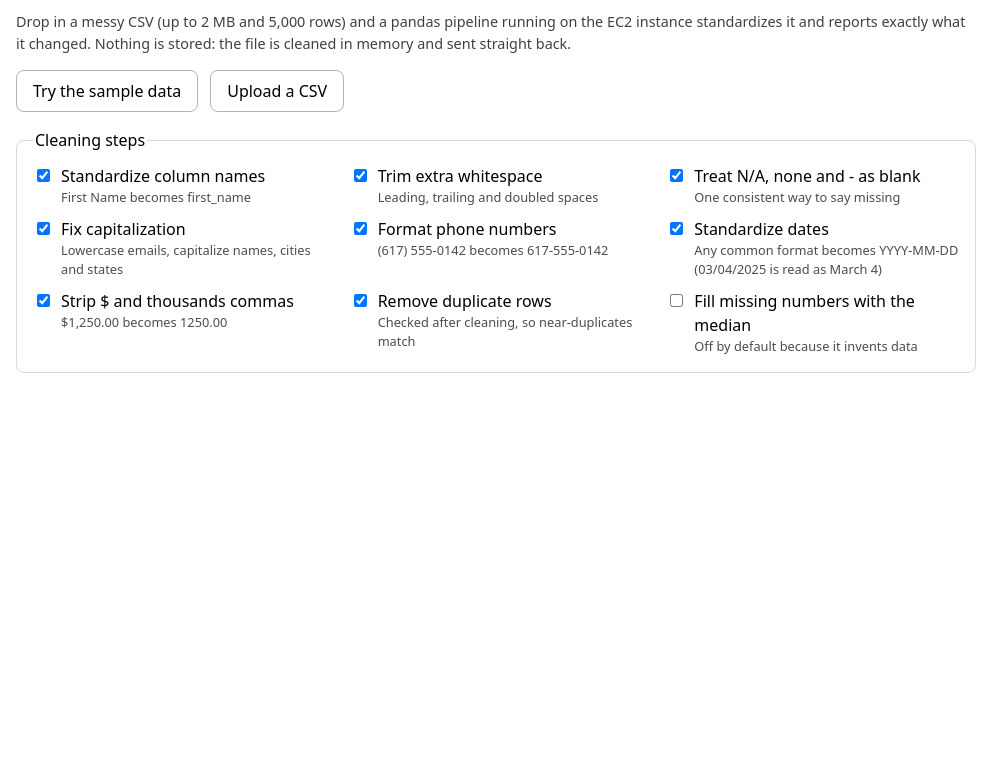
Scenario: DataCleaner › cleans the sample data and reports what changed
The image size is (993, 757).
Click the button "Try the sample data".
click(107, 91)  # box [16, 70, 198, 112]
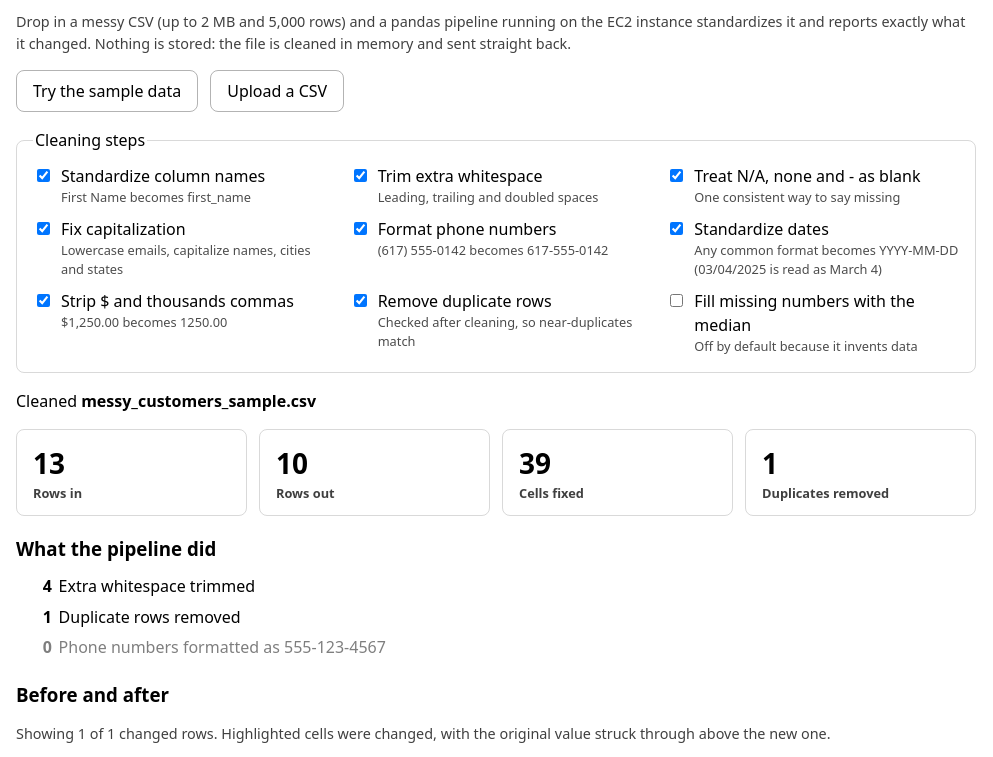
Now the list item "Extra whitespace trimmed" is shown, box [59, 575, 255, 597]
Now the text "10" is shown, box [276, 444, 308, 482]
Now the text "1" in the row of "39" is shown, box [762, 444, 778, 482]
